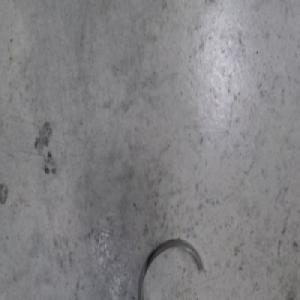AdjustableClamp: (139, 236, 207, 300)
